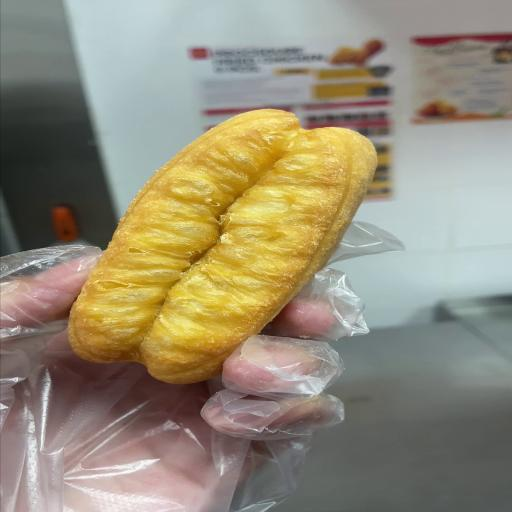brand_golden_good: (68, 109, 376, 383)
